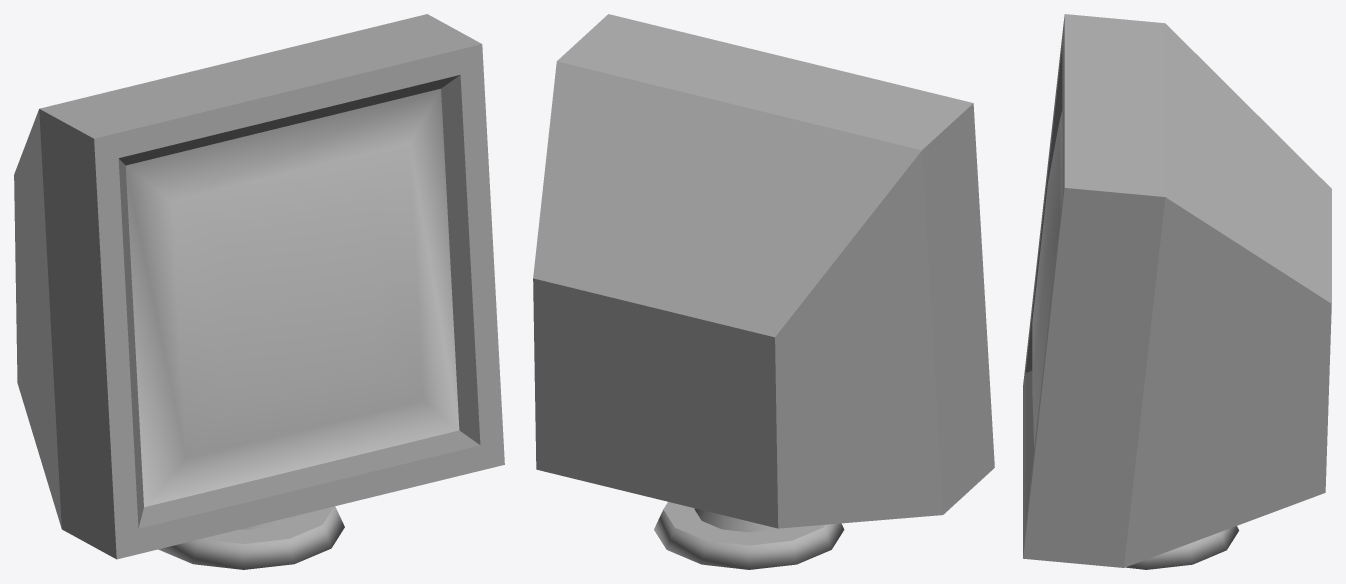
The model's file is PC Monitor.fbx.
3 renders of one model, left to right at view 1: azimuth 30°, elevation 25°; view 2: azimuth 150°, elevation 25°; view 3: azimuth 270°, elevation 25°, orthographic. The views are drawn at different scales.
Parts seen in each view (by area): view 1: PC Monitor; view 2: PC Monitor; view 3: PC Monitor.
Part boxes in pixels (x1=…): PC Monitor: x1=14, y1=14, x2=504, y2=569; PC Monitor: x1=533, y1=14, x2=994, y2=569; PC Monitor: x1=1023, y1=14, x2=1331, y2=569.
Bounding box in the file's own units: 40 × 46.1 × 30.01.
